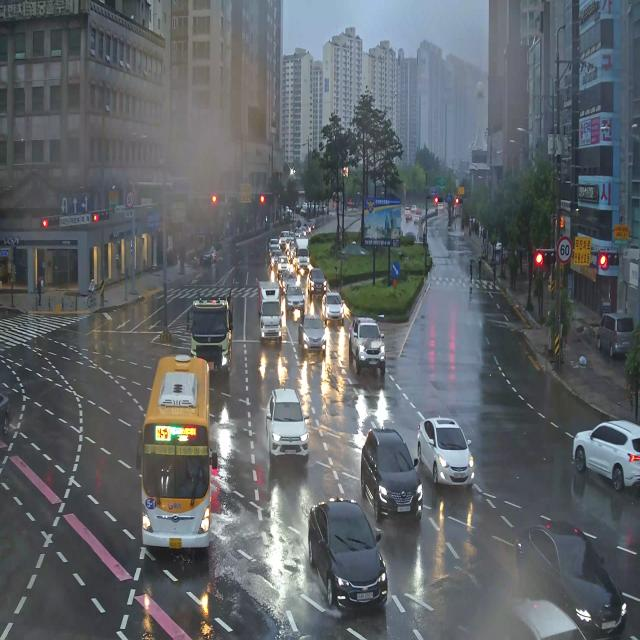Bus: (141, 352, 217, 578)
Car: (514, 517, 629, 640), (297, 485, 390, 624), (548, 393, 640, 497), (353, 408, 428, 531), (421, 387, 487, 499), (261, 379, 320, 481), (349, 310, 398, 384), (594, 305, 637, 364), (297, 310, 334, 364), (320, 282, 349, 325), (284, 283, 306, 315), (305, 266, 327, 298), (0, 381, 10, 450), (197, 240, 218, 267), (274, 255, 292, 280), (280, 271, 298, 292), (270, 249, 283, 269)
Truck: (182, 279, 242, 394), (252, 266, 290, 352), (294, 237, 311, 270)
